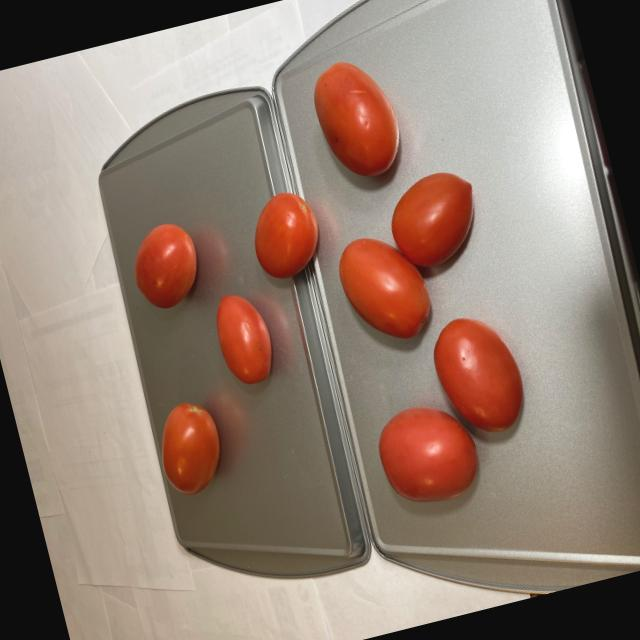tomato: (212, 32, 552, 537), (105, 204, 301, 498)
